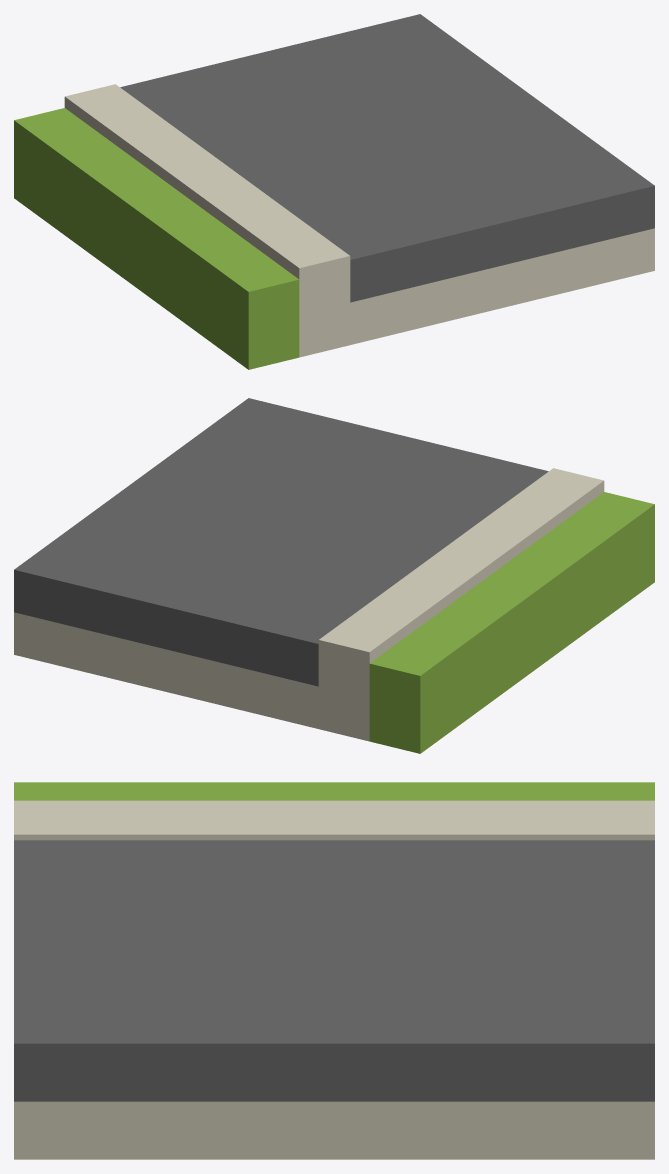
File: pavement-sidewalk-grass.obj
3 renders of one model, top to bottom at view 1: azimuth 30°, elevation 25°; view 2: azimuth 150°, elevation 25°; view 3: azimuth 270°, elevation 25°, orthographic. The views are drawn at different scales.
Visible parts, largest first — view 1: Mesh1_Group1_Model.026; view 2: Mesh1_Group1_Model.026; view 3: Mesh1_Group1_Model.026.
Boxes of the visible parts, left/top/right/bottom form: Mesh1_Group1_Model.026: left=14, top=14, right=654, bottom=369; Mesh1_Group1_Model.026: left=14, top=398, right=654, bottom=753; Mesh1_Group1_Model.026: left=14, top=782, right=654, bottom=1159.
Bounding box in the file's own units: 3 × 0.63 × 3.
